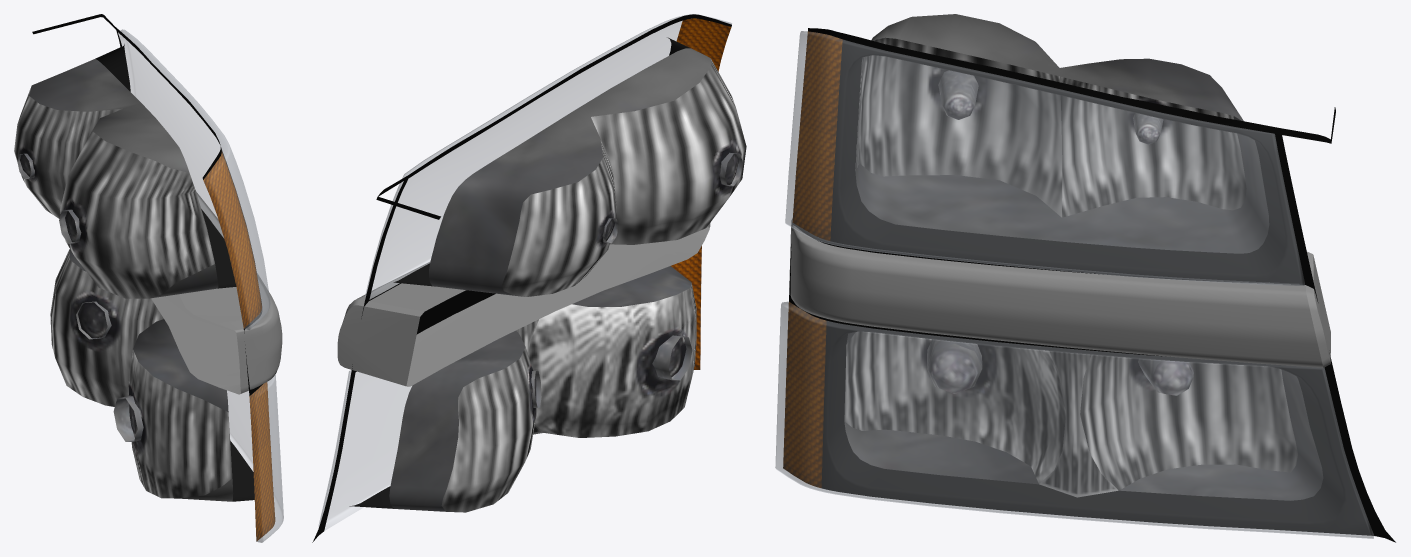
3 renders of one model, left to right at view 1: azimuth 30°, elevation 25°; view 2: azimuth 150°, elevation 25°; view 3: azimuth 270°, elevation 25°, orthographic. The views are drawn at different scales.
Parts seen in each view (by area): view 1: U803_1A_061B_R_U803_1A_061B_R_3_N, U803_1A_061B_R_1_DTaSI_U803_1A_061B_R, U803_1A_061B_R_U803_1A_061B_R_4_DaS, U803_1A_061B_R_U803_1A_061B_R_2_DTaSI, U803_1A_061B_R_U803_1A_061B_R_5_N, U803_1A_061B_R_U803_1A_061B_R_6_D; view 2: U803_1A_061B_R_U803_1A_061B_R_3_N, U803_1A_061B_R_U803_1A_061B_R_4_DaS, U803_1A_061B_R_1_DTaSI_U803_1A_061B_R, U803_1A_061B_R_U803_1A_061B_R_2_DTaSI, U803_1A_061B_R_U803_1A_061B_R_6_D, U803_1A_061B_R_U803_1A_061B_R_5_N; view 3: U803_1A_061B_R_U803_1A_061B_R_3_N, U803_1A_061B_R_U803_1A_061B_R_2_DTaSI, U803_1A_061B_R_1_DTaSI_U803_1A_061B_R, U803_1A_061B_R_U803_1A_061B_R_5_N, U803_1A_061B_R_U803_1A_061B_R_4_DaS, U803_1A_061B_R_U803_1A_061B_R_6_D.
Part boxes in pixels (x1,y1,x2,y2): U803_1A_061B_R_U803_1A_061B_R_3_N: (14, 59, 275, 541); U803_1A_061B_R_1_DTaSI_U803_1A_061B_R: (118, 29, 270, 329); U803_1A_061B_R_U803_1A_061B_R_4_DaS: (151, 192, 282, 394); U803_1A_061B_R_U803_1A_061B_R_2_DTaSI: (227, 374, 283, 542); U803_1A_061B_R_U803_1A_061B_R_5_N: (95, 44, 261, 501); U803_1A_061B_R_U803_1A_061B_R_6_D: (32, 14, 262, 395); U803_1A_061B_R_U803_1A_061B_R_3_N: (389, 18, 746, 512); U803_1A_061B_R_U803_1A_061B_R_4_DaS: (337, 222, 710, 386); U803_1A_061B_R_1_DTaSI_U803_1A_061B_R: (365, 14, 731, 299); U803_1A_061B_R_U803_1A_061B_R_2_DTaSI: (318, 249, 701, 530); U803_1A_061B_R_U803_1A_061B_R_6_D: (312, 14, 731, 542); U803_1A_061B_R_U803_1A_061B_R_5_N: (349, 37, 690, 508); U803_1A_061B_R_U803_1A_061B_R_3_N: (783, 14, 1323, 500); U803_1A_061B_R_U803_1A_061B_R_2_DTaSI: (775, 301, 1374, 538); U803_1A_061B_R_1_DTaSI_U803_1A_061B_R: (785, 31, 1304, 285); U803_1A_061B_R_U803_1A_061B_R_5_N: (821, 39, 1373, 535); U803_1A_061B_R_U803_1A_061B_R_4_DaS: (789, 219, 1330, 367); U803_1A_061B_R_U803_1A_061B_R_6_D: (789, 28, 1395, 542).
Bounding box in the file's own units: 18.31 × 28.06 × 36.11.
